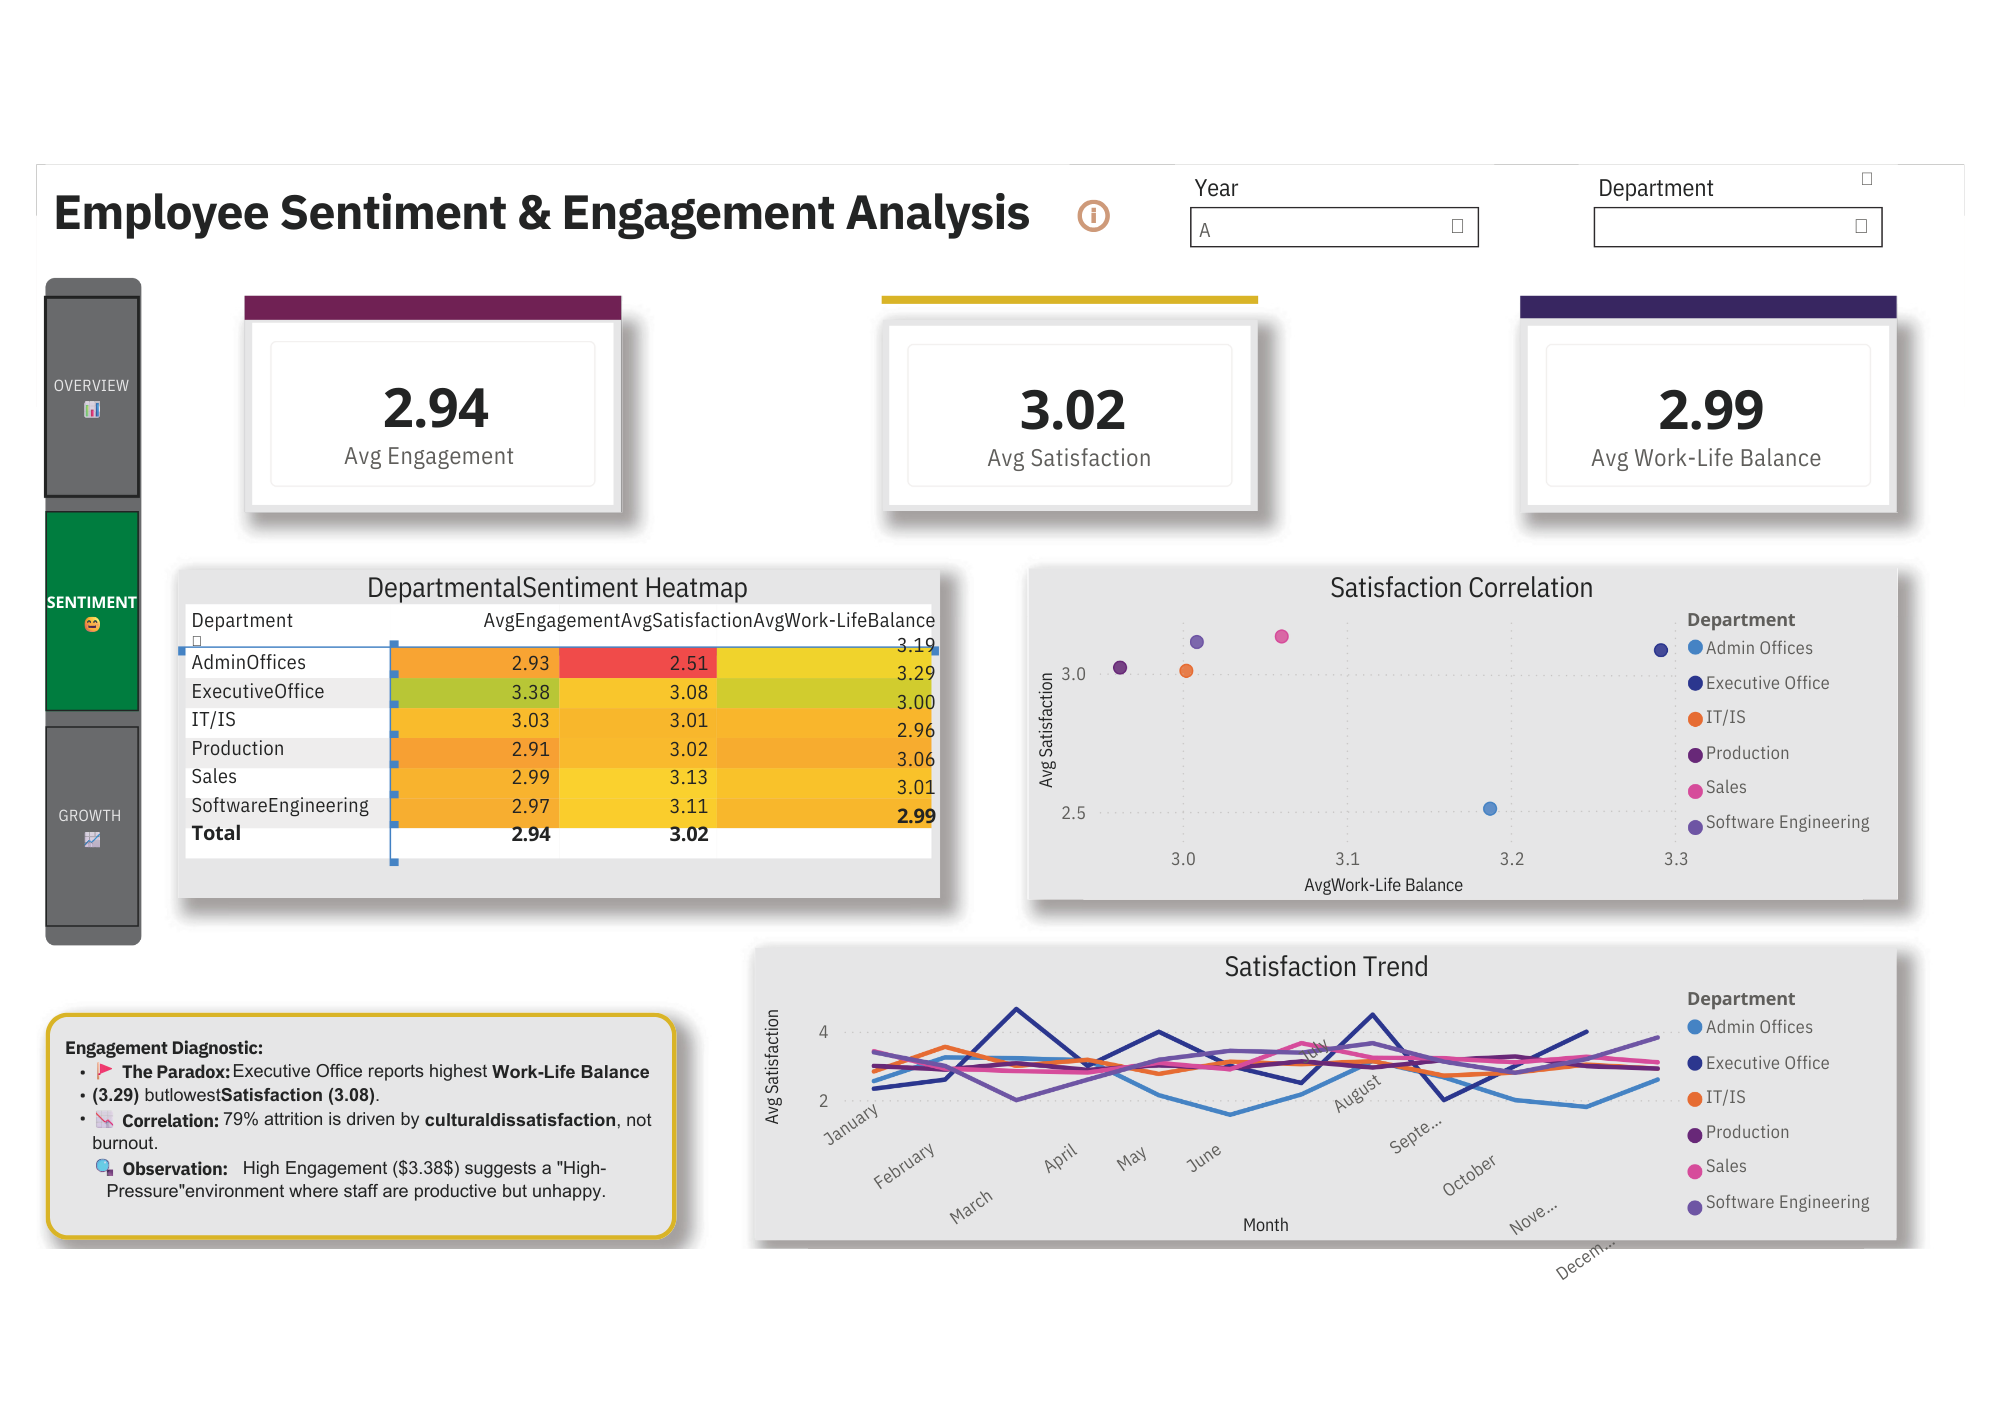

The page's visual inventory and layout, read from the dashboard file:
{"tool":"powerbi","page":{"name":"SENTIMENT 😊","canvas":[1280,720],"ordinal":1},"visuals":[{"type":"textbox","box":[5.7,0,680.3,60.5],"z":0},{"type":"cardVisual","fields":{"Data":["_Measures (2).Avg Engagement"]},"box":[138,99.5,250.8,131],"z":0,"group":"g1"},{"type":"group","id":"g1","title":"Group 1","box":[138,86.9,251.3,143.6],"z":1000},{"type":"cardVisual","fields":{"Data":["_Measures (2).Avg Satisfaction"]},"box":[561.3,102.3,250.8,128.2],"z":1000,"group":"g2"},{"type":"group","id":"g2","title":"Group 2","box":[561.3,86.9,251.3,143.6],"z":2000},{"type":"cardVisual","fields":{"Data":["_Measures (2).Avg Work-Life Balance"]},"box":[984.6,102.3,250.8,128.2],"z":2000,"group":"g3"},{"type":"group","id":"g3","title":"Group 3","box":[984.6,86.9,251.3,143.6],"z":3000},{"type":"shape","box":[5.7,73.7,64,446],"z":4000},{"type":"pageNavigator","box":[5.7,86.9,62,419.5],"z":5000},{"type":"textbox","box":[5.7,563.2,419.5,151.2],"z":6000},{"type":"pivotTable","title":"Departmental Sentiment Heatmap","fields":{"Rows":["employee_data.Department Type"],"Values":["_Measures (2).Avg Engagement","_Measures (2).Avg Satisfaction","_Measures (2).Avg Work-Life Balance"]},"box":[92.6,268.3,508.4,219.2],"z":7000},{"type":"shape","box":[138,86.9,250.8,15.8],"z":8000,"group":"g1"},{"type":"scatterChart","title":"Satisfaction Correlation","fields":{"X":["_Measures (2).Avg Work-Life Balance"],"Y":["_Measures (2).Avg Satisfaction"],"Series":["employee_data.Department Type"]},"box":[657.6,268.3,578.3,219.2],"z":8000},{"type":"shape","box":[561.3,86.9,250.8,15.4],"z":8001,"group":"g2"},{"type":"shape","box":[984.6,86.9,250.8,15.4],"z":8002,"group":"g3"},{"type":"lineChart","title":"Satisfaction Trend","fields":{"Y":["_Measures (2).Avg Satisfaction"],"Series":["employee_data.Department Type"],"Category":["employee_engagement_survey_data.Survey Date.Variation.Date Hierarchy.Month"]},"box":[476.2,519.7,759.7,194.6],"z":9000},{"type":"slicer","fields":{"Values":["employee_data.Department Type"]},"box":[1024.3,0,211.7,75.6],"z":10000},{"type":"slicer","fields":{"Values":["Dim_Calendar.Year"]},"box":[756.4,0,211.7,75.6],"z":11000},{"type":"actionButton","box":[686.9,17.4,30,33.2],"z":11001}]}

Visuals, with their boxes on the page's 1280x720 design canvas (x1, y1, x2, y2). These are canvas units, not pixel positions in the 2000x1414 screenshot, which may show the page scaled, cropped or inside an application window:
textbox: locate(6, 0, 686, 60)
cardVisual - _Measures (2).Avg Engagement: locate(138, 100, 389, 230)
"Group 1" group: locate(138, 87, 389, 230)
cardVisual - _Measures (2).Avg Satisfaction: locate(561, 102, 812, 230)
"Group 2" group: locate(561, 87, 813, 230)
cardVisual - _Measures (2).Avg Work-Life Balance: locate(985, 102, 1235, 230)
"Group 3" group: locate(985, 87, 1236, 230)
shape: locate(6, 74, 70, 520)
pageNavigator: locate(6, 87, 68, 506)
textbox: locate(6, 563, 425, 714)
"Departmental Sentiment Heatmap" pivotTable: locate(93, 268, 601, 488)
shape: locate(138, 87, 389, 103)
"Satisfaction Correlation" scatterChart: locate(658, 268, 1236, 488)
shape: locate(561, 87, 812, 102)
shape: locate(985, 87, 1235, 102)
"Satisfaction Trend" lineChart: locate(476, 520, 1236, 714)
slicer - employee_data.Department Type: locate(1024, 0, 1236, 76)
slicer - Dim_Calendar.Year: locate(756, 0, 968, 76)
actionButton: locate(687, 17, 717, 51)
